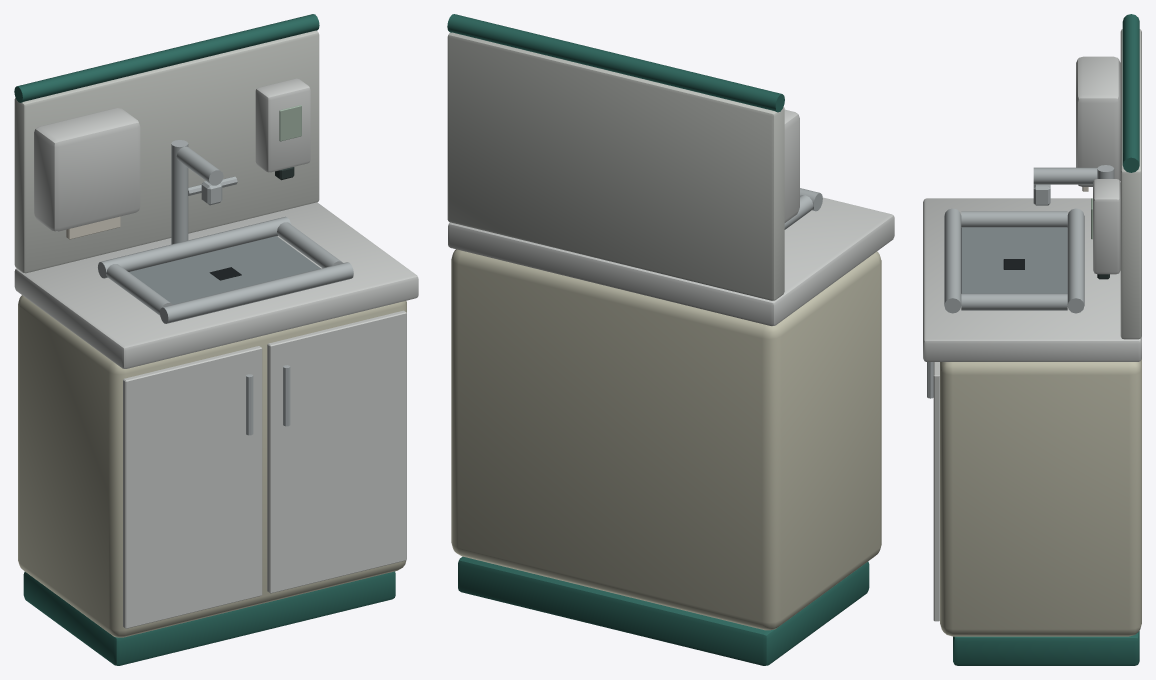
Rendered from sink.glb.
3 views of the same model, side by side, from view 1: azimuth 30°, elevation 25°; view 2: azimuth 150°, elevation 25°; view 3: azimuth 270°, elevation 25° (orthographic). The views are drawn at different scales.
Visible parts, largest first — view 1: sink; view 2: sink; view 3: sink.
Boxes of the visible parts, x1,y1,x2,y2 form: sink: (14, 14, 418, 665); sink: (447, 14, 894, 665); sink: (923, 14, 1141, 665).
Bounding box in the file's own units: 0.8 × 1.34 × 0.515.
